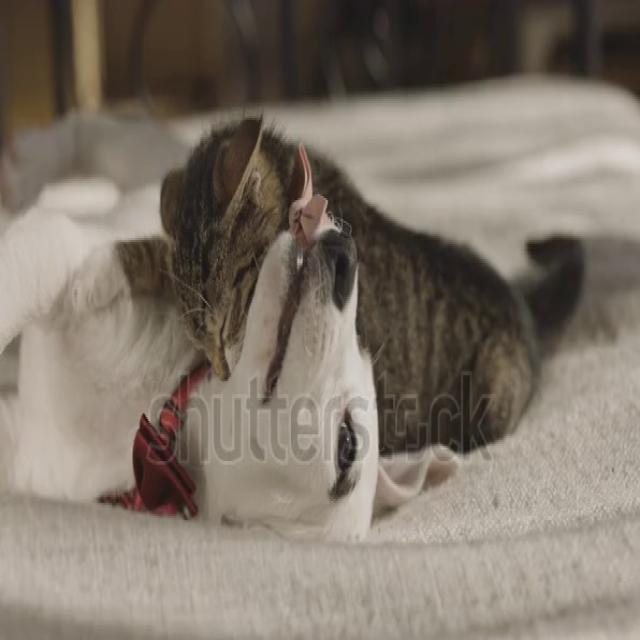normal_animals: (6, 104, 590, 546)
